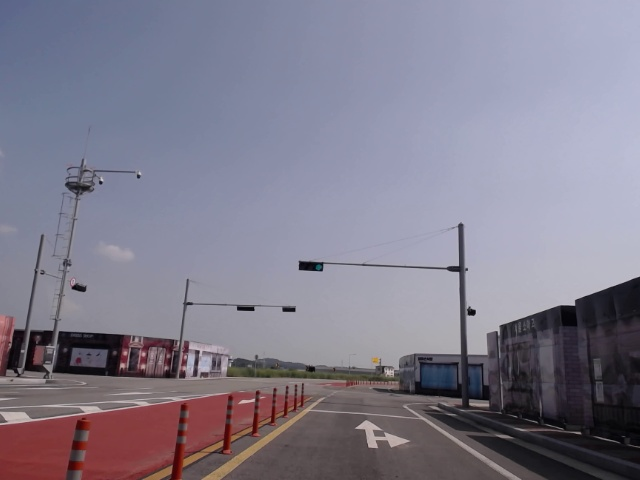green_3: (298, 261, 324, 272)
